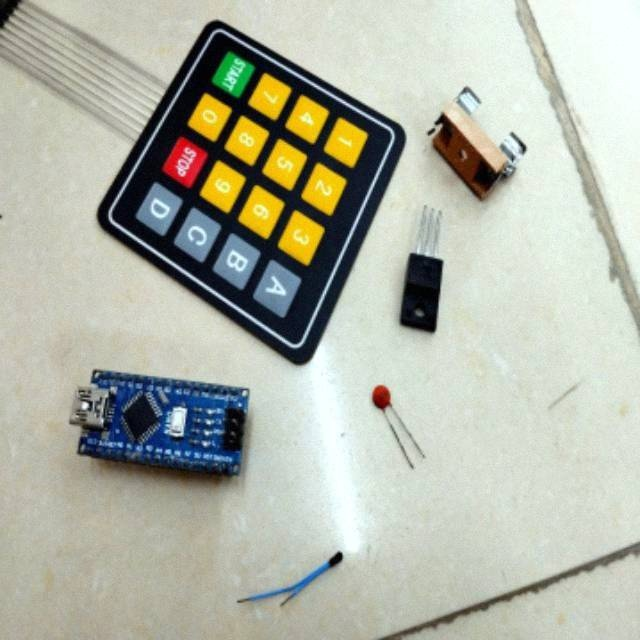capacitor: (372, 384, 420, 459)
